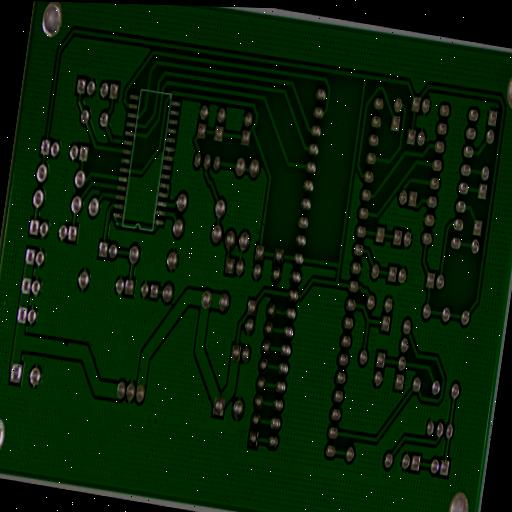mouse_bite: (60, 338, 72, 353), (278, 306, 286, 318)
